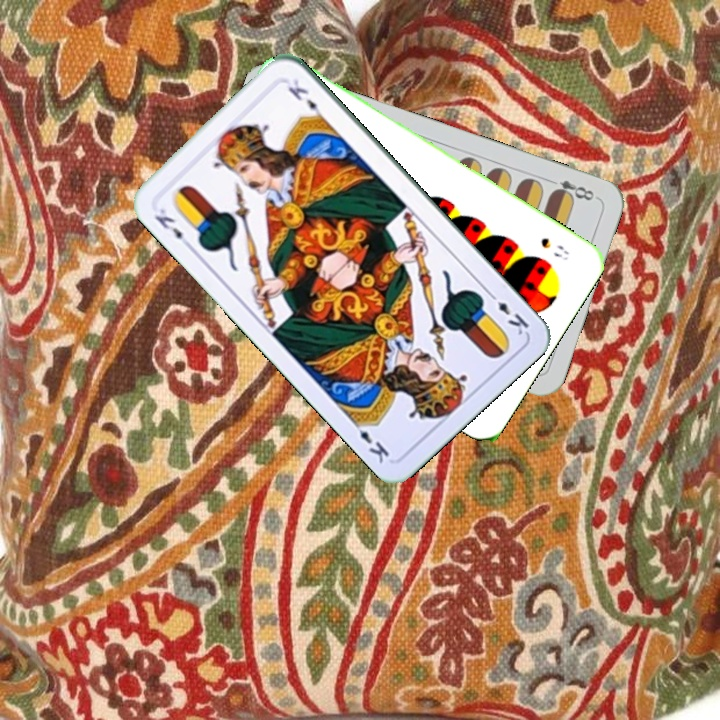E8: (543, 174, 597, 203)
EK: (484, 288, 532, 338), (150, 204, 194, 251)
S8: (536, 233, 572, 263)
